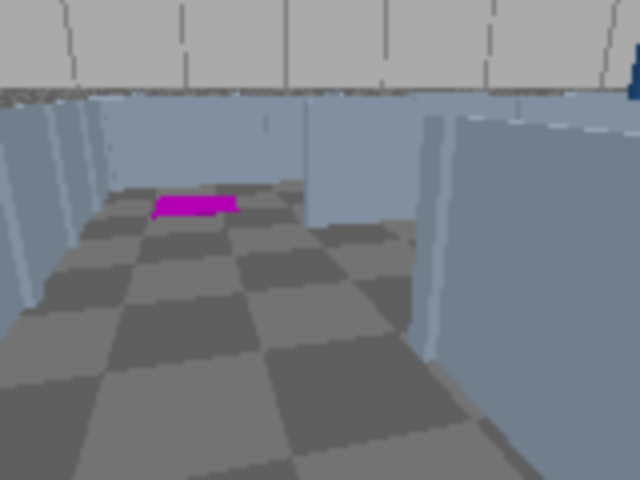goal_zone: (153, 194, 240, 218)
person: (625, 0, 638, 182)
